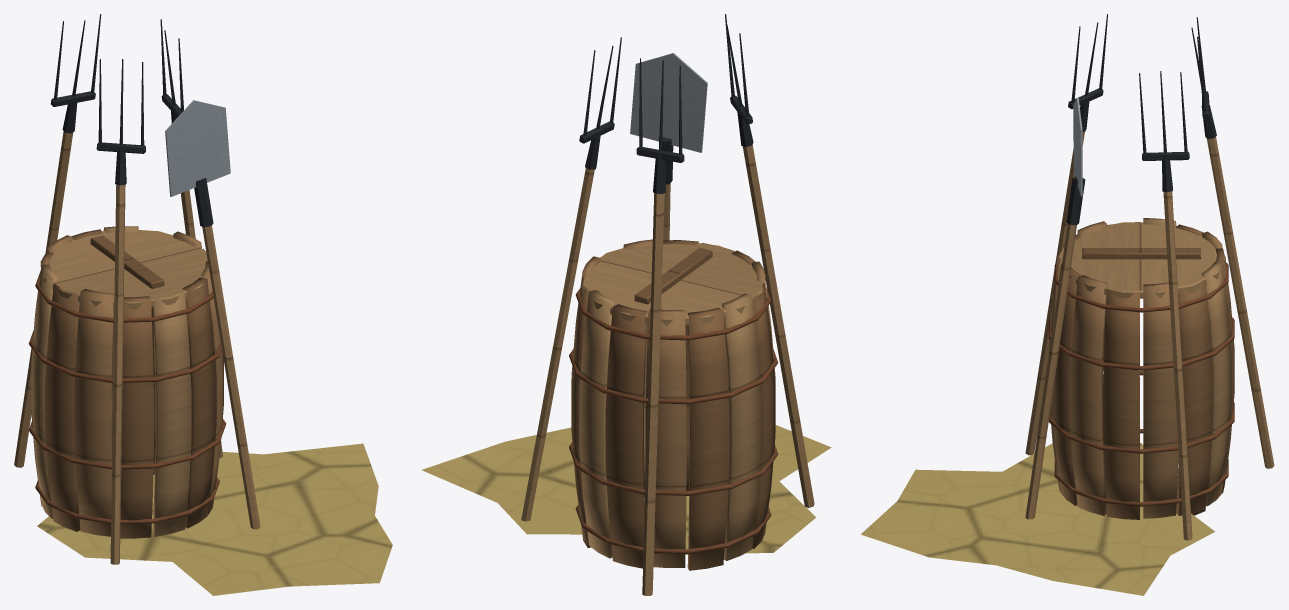
Rendered from pitchfork_stack.glb.
3 renders of one model, left to right at view 1: azimuth 30°, elevation 25°; view 2: azimuth 150°, elevation 25°; view 3: azimuth 270°, elevation 25°, orthographic. The views are drawn at different scales.
Parts seen in each view (by area): view 1: pitchfork_stack; view 2: pitchfork_stack; view 3: pitchfork_stack.
Part boxes in pixels (<box>): pitchfork_stack: <box>14,14,392,595</box>; pitchfork_stack: <box>422,14,831,595</box>; pitchfork_stack: <box>861,14,1274,595</box>.
Size of the model in its own units: 1.24 by 1.69 by 1.4.
Materials: 11 (11 with a texture image).
